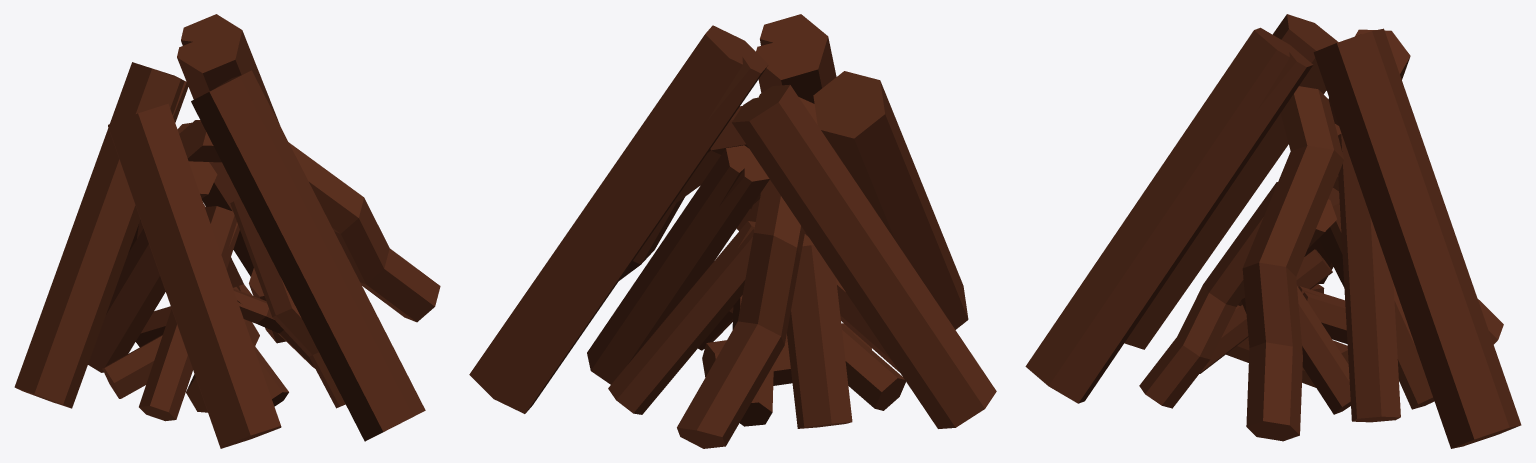
Rendered from GlowCore.fbx.
3 renders of one model, left to right at view 1: azimuth 30°, elevation 25°; view 2: azimuth 150°, elevation 25°; view 3: azimuth 270°, elevation 25°, orthographic. The views are drawn at different scales.
Visible parts, largest first — view 1: Log16, Log15, Log13, Log14, Log09, Log17, Log07, Log08, Log05, Log12, Log04, Log02 (+3 smaller); view 2: Log17, Log13, Log15, Log11, Log12, Log09, Log10, Log16, Log05, Log14, Log07, Log02 (+1 smaller); view 3: Log17, Log16, Log14, Log12, Log15, Log08, Log06, Log10, Log03, Log02, Log13, Log09 (+3 smaller).
Boxes of the visible parts, x1=… form: Log16: x1=191, y1=70, x2=425, y2=441; Log15: x1=108, y1=103, x2=281, y2=448; Log13: x1=14, y1=62, x2=189, y2=408; Log14: x1=179, y1=120, x2=440, y2=322; Log09: x1=88, y1=228, x2=165, y2=372; Log17: x1=177, y1=14, x2=280, y2=125; Log07: x1=139, y1=206, x2=239, y2=421; Log08: x1=230, y1=198, x2=345, y2=408; Log05: x1=102, y1=334, x2=162, y2=398; Log12: x1=177, y1=122, x2=253, y2=276; Log04: x1=233, y1=288, x2=315, y2=368; Log02: x1=135, y1=284, x2=252, y2=346; Log17: x1=469, y1=25, x2=768, y2=413; Log13: x1=732, y1=84, x2=996, y2=428; Log15: x1=813, y1=71, x2=968, y2=329; Log11: x1=677, y1=180, x2=804, y2=448; Log12: x1=587, y1=145, x2=769, y2=384; Log09: x1=787, y1=245, x2=852, y2=428; Log10: x1=608, y1=221, x2=755, y2=414; Log16: x1=756, y1=14, x2=836, y2=236; Log05: x1=841, y1=324, x2=905, y2=410; Log14: x1=619, y1=97, x2=817, y2=280; Log07: x1=736, y1=199, x2=899, y2=372; Log02: x1=732, y1=295, x2=773, y2=426; Log17: x1=1313, y1=28, x2=1521, y2=448; Log16: x1=1025, y1=27, x2=1312, y2=403; Log14: x1=1242, y1=86, x2=1343, y2=441; Log12: x1=1338, y1=133, x2=1400, y2=422; Log15: x1=1124, y1=14, x2=1338, y2=349; Log08: x1=1139, y1=182, x2=1277, y2=408; Log06: x1=1297, y1=286, x2=1350, y2=414; Log10: x1=1330, y1=203, x2=1434, y2=409; Log03: x1=1199, y1=249, x2=1332, y2=373; Log02: x1=1298, y1=286, x2=1347, y2=343; Log13: x1=1304, y1=29, x2=1410, y2=283; Log09: x1=1319, y1=188, x2=1344, y2=287.
Size of the model in its own units: 166 by 132 by 166.
